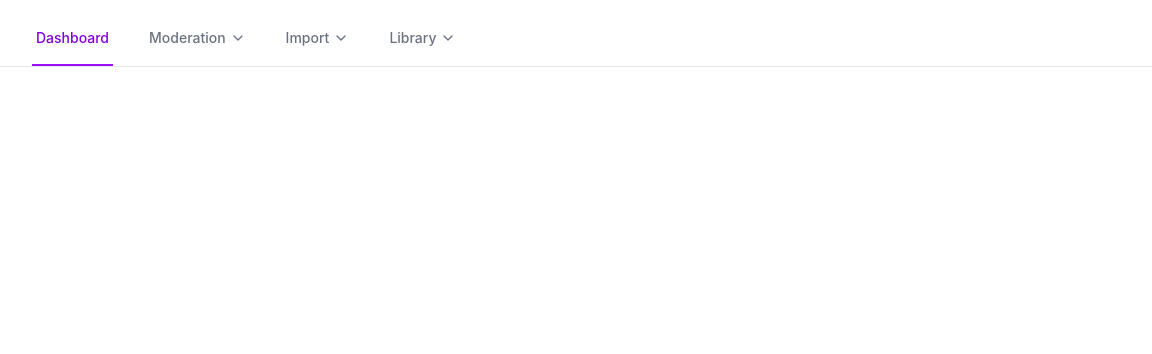
Scenario: AdminNav › opens a dropdown on click and reveals all its items
Click the button "Moderation" at (197, 39), box [145,12,250,66]
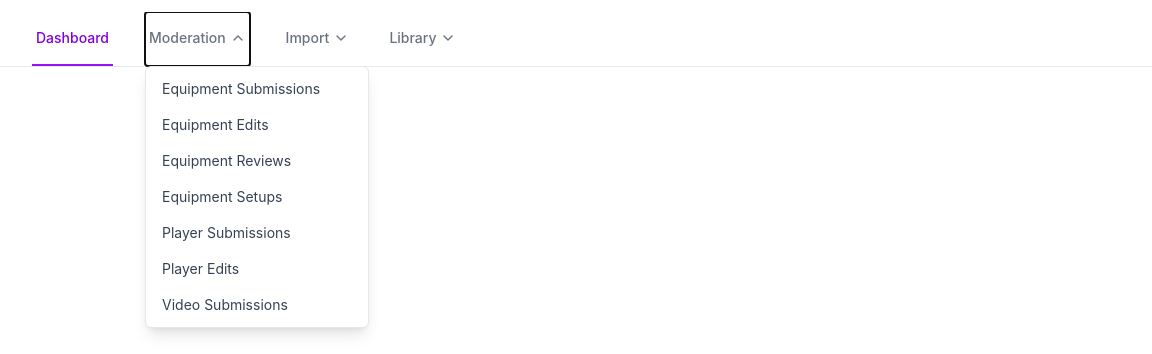
Now the button "Moderation" is expanded, box [145,12,250,66]
Now the menu item "Equipment Submissions" is shown, box [162,80,320,97]
Now the menu item "Equipment Edits" is shown, box [162,116,269,133]
